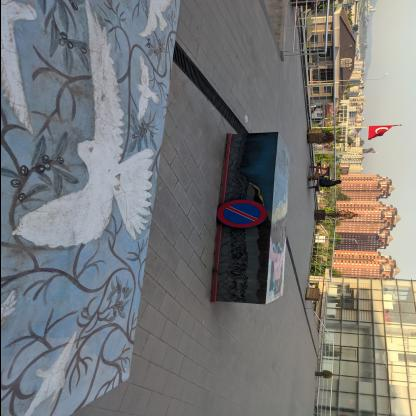No Waiting: (216, 201, 268, 229)
